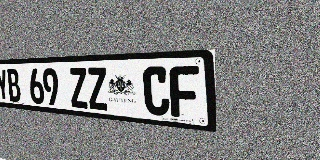6: (28, 68, 45, 105)
9: (42, 68, 60, 106)
B: (6, 69, 22, 102)
C: (142, 66, 170, 117)
F: (169, 66, 200, 119)
Y: (0, 69, 10, 101)
Z: (86, 67, 109, 111), (68, 68, 89, 109)
